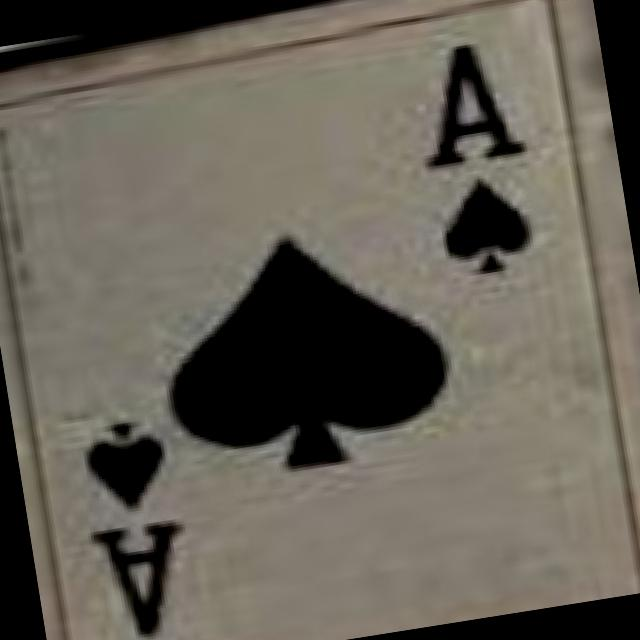Spade: (148, 215, 460, 489), (433, 173, 536, 280), (80, 416, 174, 516)
